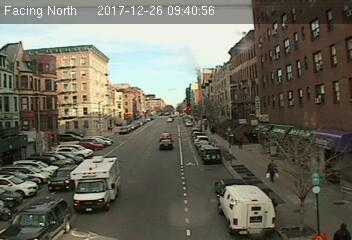car: (2, 198, 67, 240), (48, 167, 79, 190), (215, 179, 246, 196), (200, 145, 223, 166), (159, 140, 174, 151)
pedestrian: (266, 157, 278, 183)
truck: (219, 183, 276, 236), (70, 155, 120, 210)
